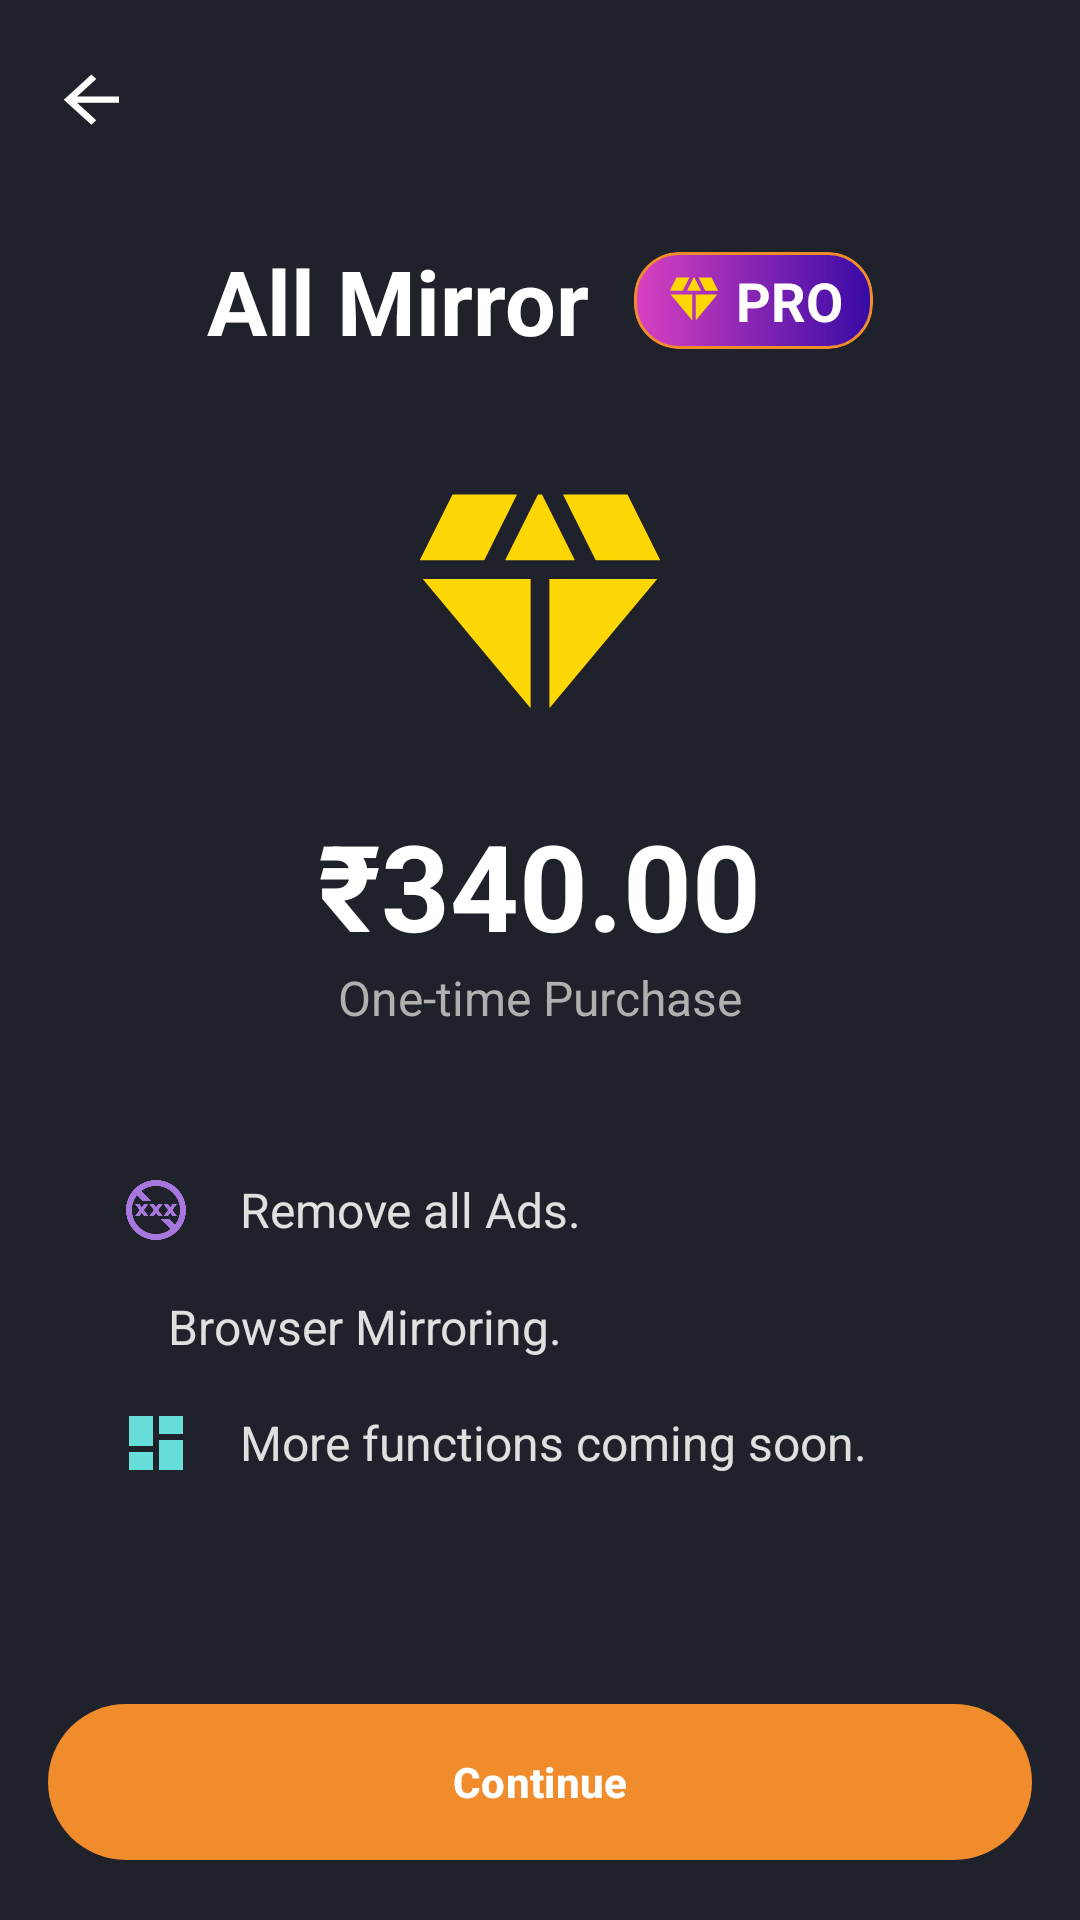

Screen size 1080×1920. Icon name, then its center in pixels as [x,y]:
diamond: [694,300], [540,601]
